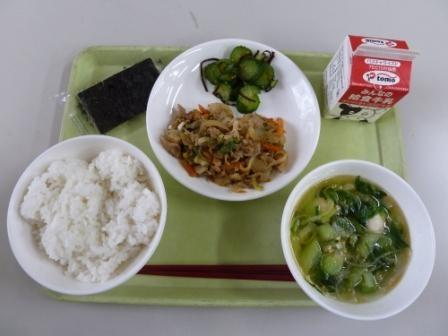Milk: (322, 25, 421, 125)
Rice: (14, 146, 158, 290)
Soups: (293, 169, 432, 313)
salad with sauce: (199, 33, 282, 114)
vegetable based cooked food: (152, 105, 297, 193)
